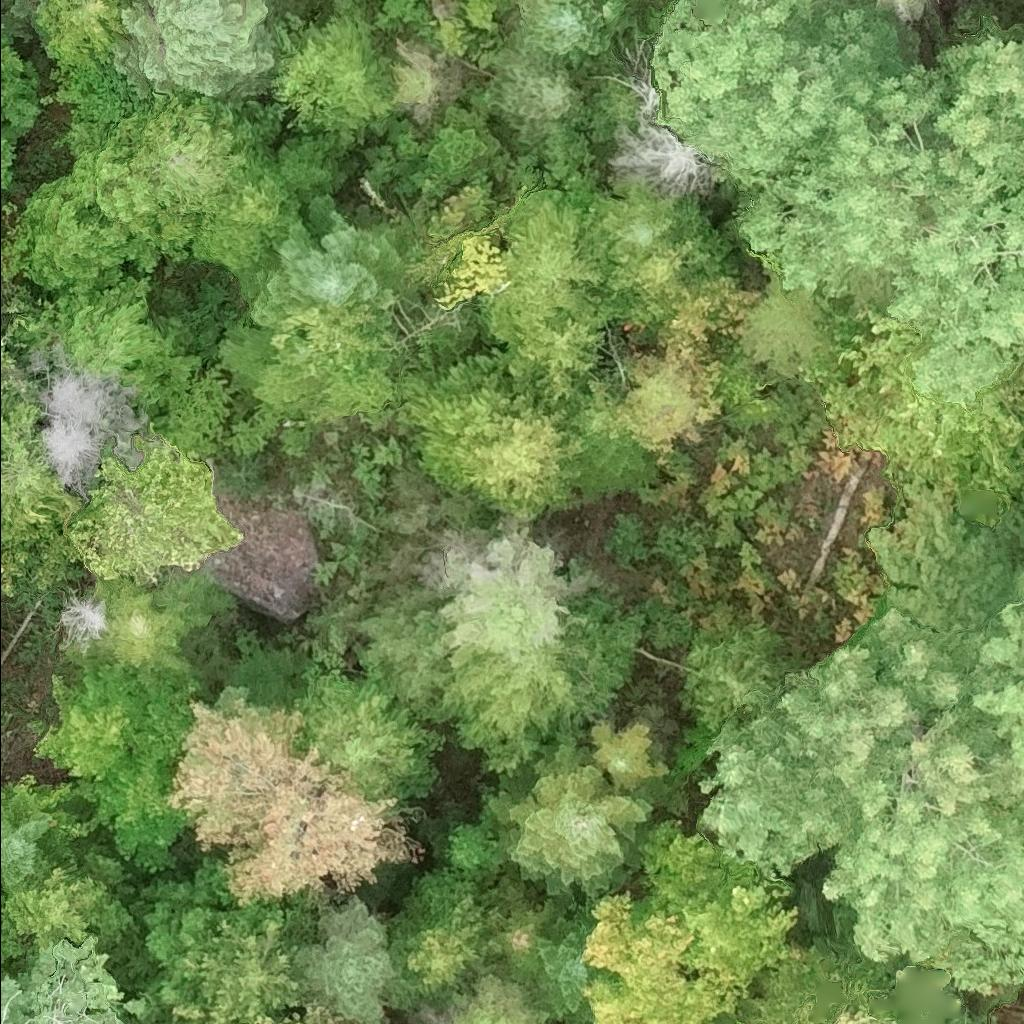crown: (690, 608, 1023, 996), (735, 32, 1023, 412), (162, 700, 424, 910), (652, 0, 910, 194), (868, 477, 1023, 773), (414, 600, 647, 778), (824, 304, 1023, 498), (28, 657, 198, 876), (66, 87, 268, 261), (617, 818, 800, 986), (396, 369, 586, 524), (483, 736, 657, 900), (66, 435, 247, 586), (434, 518, 587, 673), (580, 890, 750, 1023), (286, 663, 445, 804), (235, 192, 402, 324), (61, 570, 226, 702), (577, 193, 735, 326), (477, 189, 605, 346), (592, 46, 708, 200), (382, 869, 505, 1011), (112, 0, 277, 100), (169, 915, 320, 1023), (20, 174, 151, 290), (680, 620, 811, 732), (291, 894, 400, 1023), (0, 851, 141, 950), (0, 930, 150, 1023), (186, 151, 299, 272), (477, 35, 591, 150), (523, 894, 609, 1023), (31, 341, 139, 443), (492, 310, 606, 403), (737, 272, 835, 378), (618, 345, 709, 451), (568, 391, 656, 499), (0, 781, 76, 892), (588, 705, 671, 805), (412, 100, 506, 185), (593, 182, 687, 263), (32, 0, 127, 73), (511, 0, 611, 68), (272, 132, 349, 218), (0, 449, 65, 545), (438, 969, 552, 1023), (40, 414, 104, 496), (0, 17, 33, 137), (58, 586, 110, 649), (872, 0, 942, 33), (0, 890, 27, 968), (253, 1008, 350, 1023), (829, 1005, 899, 1023), (1003, 367, 1023, 424), (0, 127, 15, 190), (1012, 430, 1023, 483), (123, 0, 150, 6), (1019, 5, 1023, 31)
